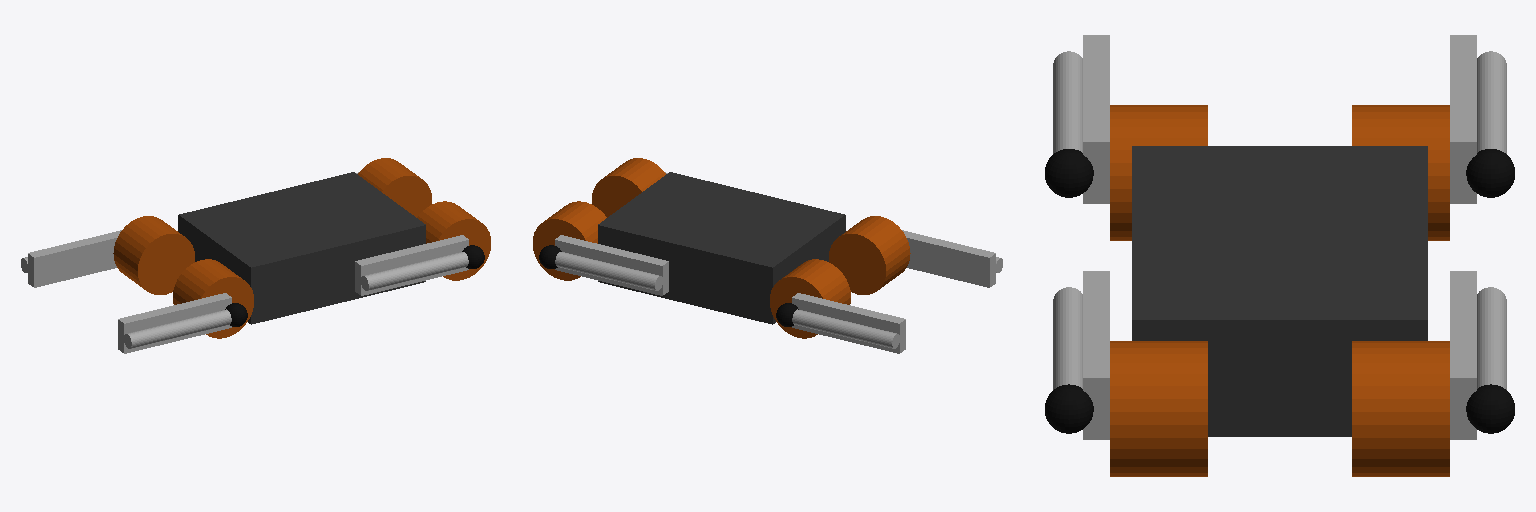
--- Render facts (derived) ---
3 views of the same robot in one strip: view 1: azimuth 30°, elevation 25°; view 2: azimuth 150°, elevation 25°; view 3: azimuth 270°, elevation 25° (orthographic).
Model spirit with 17 links and 16 joints (12 revolute, 4 fixed), rooted at body, posed all joints at 0.
Visible links, largest first — view 1: body, hip1, upper1, hip3, hip2, upper2, upper3, hip0, lower3, lower2; view 2: body, hip3, upper3, hip1, hip0, upper0, upper1, hip2, lower1, lower0; view 3: body, hip0, hip2, hip1, hip3, upper0, upper2, upper1, upper3, lower1, lower3, lower0 (+5 smaller).
Boxes of the visible links, <box> form: body: <box>178,172,425,324</box>; hip1: <box>113,216,194,294</box>; upper1: <box>28,230,121,287</box>; hip3: <box>173,259,253,338</box>; hip2: <box>417,201,490,280</box>; upper2: <box>355,235,468,295</box>; upper3: <box>118,293,231,353</box>; hip0: <box>358,158,431,217</box>; lower3: <box>124,309,231,348</box>; lower2: <box>361,252,468,290</box>; body: <box>598,172,845,324</box>; hip3: <box>829,216,910,294</box>; upper3: <box>902,230,995,287</box>; hip1: <box>770,259,850,338</box>; hip0: <box>533,201,606,280</box>; upper0: <box>555,235,668,295</box>; upper1: <box>792,293,905,353</box>; hip2: <box>592,158,665,217</box>; lower1: <box>792,309,899,348</box>; lower0: <box>555,252,662,290</box>; body: <box>1132,146,1427,436</box>; hip0: <box>1352,341,1449,476</box>; hip2: <box>1110,341,1207,476</box>; hip1: <box>1352,105,1449,240</box>; hip3: <box>1110,105,1207,240</box>; upper0: <box>1450,271,1476,439</box>; upper2: <box>1083,271,1109,439</box>; upper1: <box>1450,35,1476,203</box>; upper3: <box>1083,35,1109,203</box>; lower1: <box>1477,51,1506,153</box>; lower3: <box>1053,51,1082,153</box>; lower0: <box>1477,287,1506,389</box>.
Bounding box of the posed robot: 0.7136 × 0.382 × 0.11 m (x, y, z).
Geometry: primitives only (box / cylinder / sphere), no mesh files.

robot.urdf — spirit:
<?xml version="1.0" ?>
<!-- =================================================================================== -->
<!-- |    This document was autogenerated by xacro from spirit_drake.urdf.xacro        | -->
<!-- |    EDITING THIS FILE BY HAND IS NOT RECOMMENDED                                 | -->
<!-- =================================================================================== -->
<!--J. D. Caporale <[email redacted]>
Editted Gazebo URDF to be used drake and removed unnecessary components
12/22/2020-->
<!-- 
MIT License (modified)
Copyright (c) 2020 Ghost Robotics
Authors:
Avik De <[email redacted]>
Tom Jacobs <[email redacted]>
Permission is hereby granted, free of charge, to any person obtaining a copy
of this **file** (the "Software"), to deal
in the Software without restriction, including without limitation the rights
to use, copy, modify, merge, publish, distribute, sublicense, and/or sell
copies of the Software, and to permit persons to whom the Software is
furnished to do so, subject to the following conditions:
The above copyright notice and this permission notice shall be included in all
copies or substantial portions of the Software.
THE SOFTWARE IS PROVIDED "AS IS", WITHOUT WARRANTY OF ANY KIND, EXPRESS OR
IMPLIED, INCLUDING BUT NOT LIMITED TO THE WARRANTIES OF MERCHANTABILITY,
FITNESS FOR A PARTICULAR PURPOSE AND NONINFRINGEMENT. IN NO EVENT SHALL THE
AUTHORS OR COPYRIGHT HOLDERS BE LIABLE FOR ANY CLAIM, DAMAGES OR OTHER
LIABILITY, WHETHER IN AN ACTION OF CONTRACT, TORT OR OTHERWISE, ARISING FROM,
OUT OF OR IN CONNECTION WITH THE SOFTWARE OR THE USE OR OTHER DEALINGS IN THE
SOFTWARE. 
-->
<robot name="spirit" xmlns:xacro="http://www.ros.org/wiki/xacro">
  <!-- Define parameters -->
  <!-- bodyLength + hipdx should be equal to front to back hip distance -->
  <!-- dy +  dPodAxisToEdge + upperLegWidth should be equal to the center to toe distance along y axis-->
  <!-- guess -->
  <!-- guess -->
  <!-- guess -->
  <!-- guess -->
  <!-- guess -->
  <!-- guess -->
  <!--visual only-->
  <!--center of pod cylinder to the ab axis-->
  <material name="blue">
    <color rgba="0 0 0.8 1"/>
  </material>
  <material name="black">
    <color rgba="0.1 0.1 0.1 1"/>
  </material>
  <material name="darkgray">
    <color rgba="0.25 0.25 0.25 1"/>
  </material>
  <material name="copper">
    <color rgba="0.68 0.34 0.08 1"/>
  </material>
  <material name="silver">
    <color rgba="0.68 0.68 0.68 1"/>
  </material>
  <!-- 
	leg suffix="0" hipJointName="0" kneeJointName="1" abductionJointName="8"
 	leg suffix="1" hipJointName="2" kneeJointName="3" abductionJointName="9"
 	leg suffix="2" hipJointName="4" kneeJointName="5" abductionJointName="10"
 	leg suffix="3" hipJointName="6" kneeJointName="7" abductionJointName="11"
	-->
  <!-- Body -->
  <link name="body">
    <visual>
      <origin rpy="0 0 0" xyz="0 0 0"/>
      <geometry>
        <box size="0.335 0.24 0.104"/>
      </geometry>
      <material name="darkgray"/>
    </visual>
    <inertial>
      <mass value="5.75"/>
      <!-- Uniform box -->
      <!-- <inertia ixx="1/12*${bodyMass}*(${bodyWidth}*${bodyWidth} + ${bodyHeight}*${bodyHeight})"  ixy="0"  ixz="0" iyy="1/12*${bodyMass}*(${bodyLength}*${bodyLength} + ${bodyHeight}*${bodyHeight})" iyz="0" izz="1/12*${bodyMass}*(${bodyLength}*${bodyLength} + ${bodyWidth}*${bodyWidth})"/> -->
      <inertia ixx="0.05" ixy="0" ixz="0" iyy="0.1" iyz="0" izz="0.1"/>
    </inertial>
    <!-- Just copy geometry for collision -->
    <collision>
      <origin rpy="0 0 0" xyz="0 0 0"/>
      <geometry>
        <box size="0.335 0.24 0.104"/>
      </geometry>
    </collision>
  </link>
  <!-- Define our leg macro -->
  <!-- Our four legs -->
  <!-- Hip motor -->
  <link name="hip0">
    <visual>
      <origin rpy="1.570796326795 0 0" xyz="0.0 0.028 0"/>
      <geometry>
        <cylinder length="0.08" radius="0.055"/>
      </geometry>
      <material name="copper"/>
    </visual>
    <collision>
      <origin rpy="1.570796326795 0 0" xyz="0 0.028 0"/>
      <geometry>
        <cylinder length="0.08" radius="0.055"/>
      </geometry>
    </collision>
    <inertial>
      <mass value="0.575"/>
      <!-- <inertia ixx="1/12*${podMass}*${podLength}*${podLength} + 1/4*${podMass}*${podRadius}*${podRadius}"  ixy="0"  ixz="0" iyy="1/12*${podMass}*${podLength}*${podLength} + 1/4*${podMass}*${podRadius}*${podRadius}" iyz="0" izz="1/2*${podMass}*${podRadius}*$
				{podRadius}" /> -->
      <inertia ixx="0.00066963541" ixy="0" ixz="0" iyy="0.00066963541" iyz="0" izz="0.0008696875"/>
    </inertial>
  </link>
  <!-- Abduction joint. Joint names are: 8 9 10 11 -->
  <joint name="joint_8" type="revolute">
    <parent link="body"/>
    <child link="hip0"/>
    <axis xyz="1 0 0"/>
    <origin xyz="0.2263 0.07 0"/>
    <!-- <limit effort="${abEffortLimit}" velocity="${abSpeedLimit}" lower="${-abKinLimit}" upper="${abKinLimit}"/> -->
    <dynamics damping="0.0" friction="0.0"/>
  </joint>
  <!-- Transmission elements required for Gazebo -->
  <transmission name="transmission_8">
    <type>transmission_interface/SimpleTransmission</type>
    <joint name="joint_8">
      <!-- <hardwareInterface>hardware_interface/EffortJointInterface</hardwareInterface> -->
    </joint>
    <actuator name="motor_8">
      <!-- <hardwareInterface>EffortJointInterface</hardwareInterface> -->
      <mechanicalReduction>1</mechanicalReduction>
    </actuator>
  </transmission>
  <!-- Upper leg -->
  <link name="upper0">
    <visual>
      <origin rpy="0 0 0" xyz="-0.103 -0.022 0"/>
      <geometry>
        <box size="0.206 0.022 0.055"/>
      </geometry>
      <material name="silver"/>
    </visual>
    <collision>
      <origin rpy="0 0 0" xyz="-0.103 -0.022 0"/>
      <geometry>
        <box size="0.206 0.022 0.055"/>
      </geometry>
    </collision>
    <inertial>
      <mass value="0.775"/>
      <inertia ixx="5e-05" ixy="0" ixz="0" iyy="0.001" iyz="0" izz="0.001"/>
    </inertial>
  </link>
  <!-- Hip joint. (Motor to upper leg). Joint names are: 0 2 4 6 -->
  <joint name="joint_0" type="revolute">
    <parent link="hip0"/>
    <child link="upper0"/>
    <axis xyz="0 -1 0"/>
    <origin xyz="0.0 0.10098 0"/>
    <!--  rpy="0 -0.3 0" -->
    <!-- <limit effort="${jointEffortLimit}" velocity="${jointSpeedLimit}" lower="${hipJointLowerLimit}" upper="${hipJointUpperLimit}"/> -->
    <dynamics damping="0.0" friction="0.0"/>
  </joint>
  <!-- Transmission elements required for Gazebo -->
  <transmission name="transmission_0">
    <type>transmission_interface/SimpleTransmission</type>
    <joint name="joint_0">
      <!-- <hardwareInterface>hardware_interface/EffortJointInterface</hardwareInterface> -->
    </joint>
    <actuator name="motor_0">
      <!-- <hardwareInterface>EffortJointInterface</hardwareInterface> -->
      <mechanicalReduction>1</mechanicalReduction>
    </actuator>
  </transmission>
  <!-- Lower leg -->
  <link name="lower0">
    <visual>
      <origin rpy="0 1.570796326795 0" xyz="0.103 0 0"/>
      <geometry>
        <cylinder length="0.206" radius="0.013"/>
      </geometry>
      <material name="silver"/>
    </visual>
    <collision>
      <origin rpy="0 1.570796326795 0" xyz="0.103 0 0"/>
      <geometry>
        <cylinder length="0.206" radius="0.013"/>
      </geometry>
    </collision>
    <inertial>
      <mass value="0.075"/>
      <inertia ixx="5e-06" ixy="0" ixz="0" iyy="0.0001" iyz="0" izz="0.0001"/>
    </inertial>
  </link>
  <!-- Knee joint. Joint names are: 1 3 5 7 -->
  <joint name="joint_1" type="revolute">
    <parent link="upper0"/>
    <child link="lower0"/>
    <axis xyz="0 1 0"/>
    <origin xyz="-0.206 0 0"/>
    <!--rpy="0 0.5 0"-->
    <!-- <limit effort="${jointEffortLimit}" velocity="${jointSpeedLimit}" lower="0" upper="${pi}"/> -->
    <dynamics damping="0.0" friction="0.0"/>
  </joint>
  <!-- Transmission elements required for Gazebo -->
  <transmission name="transmission_1">
    <type>transmission_interface/SimpleTransmission</type>
    <joint name="joint_1">
      <!-- <hardwareInterface>hardware_interface/EffortJointInterface</hardwareInterface> -->
    </joint>
    <actuator name="motor_1">
      <!-- <hardwareInterface>EffortJointInterface</hardwareInterface> -->
      <mechanicalReduction>1.5</mechanicalReduction>
      <!-- Spirit knees have a 1.5 reduction from the original modules-->
    </actuator>
  </transmission>
  <!-- Toe -->
  <link name="toe0">
    <contact>
      <friction_anchor/>
      <stiffness value="300.0"/>
      <damping value="10.0"/>
      <spinning_friction value="0.3"/>
      <lateral_friction value="50.0"/>
    </contact>
    <visual>
      <origin rpy="0 0 0" xyz="0 0 0"/>
      <geometry>
        <sphere radius="0.02"/>
      </geometry>
      <material name="black"/>
    </visual>
    <collision>
      <origin rpy="0 0 0" xyz="0 0 0"/>
      <geometry>
        <sphere radius="0.02"/>
      </geometry>
    </collision>
    <inertial>
      <mass value="0.015"/>
      <inertia ixx="0.000025" ixy="0" ixz="0" iyy="0.000025" iyz="0" izz="0.000025"/>
      <!-- <inertia ixx="2/5*${toeMass}*${toeRadius}*${toeRadius}"  ixy="0"  ixz="0" iyy="2/5*${toeMass}*${toeRadius}*${toeRadius}" iyz="0" izz="2/5*${toeMass}*${toeRadius}*${toeRadius}" /> -->
    </inertial>
  </link>
  <joint name="jtoe0" type="fixed">
    <parent link="lower0"/>
    <child link="toe0"/>
    <origin xyz="0.206 0 -0.0"/>
    <dynamics damping="0.0" friction="0.0"/>
  </joint>
  <!-- Hip motor -->
  <link name="hip1">
    <visual>
      <origin rpy="1.570796326795 0 0" xyz="-0.0 0.028 0"/>
      <geometry>
        <cylinder length="0.08" radius="0.055"/>
      </geometry>
      <material name="copper"/>
    </visual>
    <collision>
      <origin rpy="1.570796326795 0 0" xyz="0 0.028 0"/>
      <geometry>
        <cylinder length="0.08" radius="0.055"/>
      </geometry>
    </collision>
    <inertial>
      <mass value="0.575"/>
      <!-- <inertia ixx="1/12*${podMass}*${podLength}*${podLength} + 1/4*${podMass}*${podRadius}*${podRadius}"  ixy="0"  ixz="0" iyy="1/12*${podMass}*${podLength}*${podLength} + 1/4*${podMass}*${podRadius}*${podRadius}" iyz="0" izz="1/2*${podMass}*${podRadius}*$
				{podRadius}" /> -->
      <inertia ixx="0.00066963541" ixy="0" ixz="0" iyy="0.00066963541" iyz="0" izz="0.0008696875"/>
    </inertial>
  </link>
  <!-- Abduction joint. Joint names are: 8 9 10 11 -->
  <joint name="joint_9" type="revolute">
    <parent link="body"/>
    <child link="hip1"/>
    <axis xyz="1 0 0"/>
    <origin xyz="-0.2263 0.07 0"/>
    <!-- <limit effort="${abEffortLimit}" velocity="${abSpeedLimit}" lower="${-abKinLimit}" upper="${abKinLimit}"/> -->
    <dynamics damping="0.0" friction="0.0"/>
  </joint>
  <!-- Transmission elements required for Gazebo -->
  <transmission name="transmission_9">
    <type>transmission_interface/SimpleTransmission</type>
    <joint name="joint_9">
      <!-- <hardwareInterface>hardware_interface/EffortJointInterface</hardwareInterface> -->
    </joint>
    <actuator name="motor_9">
      <!-- <hardwareInterface>EffortJointInterface</hardwareInterface> -->
      <mechanicalReduction>1</mechanicalReduction>
    </actuator>
  </transmission>
  <!-- Upper leg -->
  <link name="upper1">
    <visual>
      <origin rpy="0 0 0" xyz="-0.103 -0.022 0"/>
      <geometry>
        <box size="0.206 0.022 0.055"/>
      </geometry>
      <material name="silver"/>
    </visual>
    <collision>
      <origin rpy="0 0 0" xyz="-0.103 -0.022 0"/>
      <geometry>
        <box size="0.206 0.022 0.055"/>
      </geometry>
    </collision>
    <inertial>
      <mass value="0.775"/>
      <inertia ixx="5e-05" ixy="0" ixz="0" iyy="0.001" iyz="0" izz="0.001"/>
    </inertial>
  </link>
  <!-- Hip joint. (Motor to upper leg). Joint names are: 0 2 4 6 -->
  <joint name="joint_2" type="revolute">
    <parent link="hip1"/>
    <child link="upper1"/>
    <axis xyz="0 -1 0"/>
    <origin xyz="-0.0 0.10098 0"/>
    <!--  rpy="0 -0.3 0" -->
    <!-- <limit effort="${jointEffortLimit}" velocity="${jointSpeedLimit}" lower="${hipJointLowerLimit}" upper="${hipJointUpperLimit}"/> -->
    <dynamics damping="0.0" friction="0.0"/>
  </joint>
  <!-- Transmission elements required for Gazebo -->
  <transmission name="transmission_2">
    <type>transmission_interface/SimpleTransmission</type>
    <joint name="joint_2">
      <!-- <hardwareInterface>hardware_interface/EffortJointInterface</hardwareInterface> -->
    </joint>
    <actuator name="motor_2">
      <!-- <hardwareInterface>EffortJointInterface</hardwareInterface> -->
      <mechanicalReduction>1</mechanicalReduction>
    </actuator>
  </transmission>
  <!-- Lower leg -->
  <link name="lower1">
    <visual>
      <origin rpy="0 1.570796326795 0" xyz="0.103 0 0"/>
      <geometry>
        <cylinder length="0.206" radius="0.013"/>
      </geometry>
      <material name="silver"/>
    </visual>
    <collision>
      <origin rpy="0 1.570796326795 0" xyz="0.103 0 0"/>
      <geometry>
        <cylinder length="0.206" radius="0.013"/>
      </geometry>
    </collision>
    <inertial>
      <mass value="0.075"/>
      <inertia ixx="5e-06" ixy="0" ixz="0" iyy="0.0001" iyz="0" izz="0.0001"/>
    </inertial>
  </link>
  <!-- Knee joint. Joint names are: 1 3 5 7 -->
  <joint name="joint_3" type="revolute">
    <parent link="upper1"/>
    <child link="lower1"/>
    <axis xyz="0 1 0"/>
    <origin xyz="-0.206 0 0"/>
    <!--rpy="0 0.5 0"-->
    <!-- <limit effort="${jointEffortLimit}" velocity="${jointSpeedLimit}" lower="0" upper="${pi}"/> -->
    <dynamics damping="0.0" friction="0.0"/>
  </joint>
  <!-- Transmission elements required for Gazebo -->
  <transmission name="transmission_3">
    <type>transmission_interface/SimpleTransmission</type>
    <joint name="joint_3">
      <!-- <hardwareInterface>hardware_interface/EffortJointInterface</hardwareInterface> -->
    </joint>
    <actuator name="motor_3">
      <!-- <hardwareInterface>EffortJointInterface</hardwareInterface> -->
      <mechanicalReduction>1.5</mechanicalReduction>
      <!-- Spirit knees have a 1.5 reduction from the original modules-->
    </actuator>
  </transmission>
  <!-- Toe -->
  <link name="toe1">
    <contact>
      <friction_anchor/>
      <stiffness value="300.0"/>
      <damping value="10.0"/>
      <spinning_friction value="0.3"/>
      <lateral_friction value="50.0"/>
    </contact>
    <visual>
      <origin rpy="0 0 0" xyz="0 0 0"/>
      <geometry>
        <sphere radius="0.02"/>
      </geometry>
      <material name="black"/>
    </visual>
    <collision>
      <origin rpy="0 0 0" xyz="0 0 0"/>
      <geometry>
        <sphere radius="0.02"/>
      </geometry>
    </collision>
    <inertial>
      <mass value="0.015"/>
      <inertia ixx="0.000025" ixy="0" ixz="0" iyy="0.000025" iyz="0" izz="0.000025"/>
      <!-- <inertia ixx="2/5*${toeMass}*${toeRadius}*${toeRadius}"  ixy="0"  ixz="0" iyy="2/5*${toeMass}*${toeRadius}*${toeRadius}" iyz="0" izz="2/5*${toeMass}*${toeRadius}*${toeRadius}" /> -->
    </inertial>
  </link>
  <joint name="jtoe1" type="fixed">
    <parent link="lower1"/>
    <child link="toe1"/>
    <origin xyz="0.206 0 -0.0"/>
    <dynamics damping="0.0" friction="0.0"/>
  </joint>
  <!-- Hip motor -->
  <link name="hip2">
    <visual>
      <origin rpy="1.570796326795 0 0" xyz="0.0 -0.028 0"/>
      <geometry>
        <cylinder length="0.08" radius="0.055"/>
      </geometry>
      <material name="copper"/>
    </visual>
    <collision>
      <origin rpy="1.570796326795 0 0" xyz="0 -0.028 0"/>
      <geometry>
        <cylinder length="0.08" radius="0.055"/>
      </geometry>
    </collision>
    <inertial>
      <mass value="0.575"/>
      <!-- <inertia ixx="1/12*${podMass}*${podLength}*${podLength} + 1/4*${podMass}*${podRadius}*${podRadius}"  ixy="0"  ixz="0" iyy="1/12*${podMass}*${podLength}*${podLength} + 1/4*${podMass}*${podRadius}*${podRadius}" iyz="0" izz="1/2*${podMass}*${podRadius}*$
				{podRadius}" /> -->
      <inertia ixx="0.00066963541" ixy="0" ixz="0" iyy="0.00066963541" iyz="0" izz="0.0008696875"/>
    </inertial>
  </link>
  <!-- Abduction joint. Joint names are: 8 9 10 11 -->
  <joint name="joint_10" type="revolute">
    <parent link="body"/>
    <child link="hip2"/>
    <axis xyz="1 0 0"/>
    <origin xyz="0.2263 -0.07 0"/>
    <!-- <limit effort="${abEffortLimit}" velocity="${abSpeedLimit}" lower="${-abKinLimit}" upper="${abKinLimit}"/> -->
    <dynamics damping="0.0" friction="0.0"/>
  </joint>
  <!-- Transmission elements required for Gazebo -->
  <transmission name="transmission_10">
    <type>transmission_interface/SimpleTransmission</type>
    <joint name="joint_10">
      <!-- <hardwareInterface>hardware_interface/EffortJointInterface</hardwareInterface> -->
    </joint>
    <actuator name="motor_10">
      <!-- <hardwareInterface>EffortJointInterface</hardwareInterface> -->
      <mechanicalReduction>1</mechanicalReduction>
    </actuator>
  </transmission>
  <!-- Upper leg -->
  <link name="upper2">
    <visual>
      <origin rpy="0 0 0" xyz="-0.103 0.022 0"/>
      <geometry>
        <box size="0.206 0.022 0.055"/>
      </geometry>
      <material name="silver"/>
    </visual>
    <collision>
      <origin rpy="0 0 0" xyz="-0.103 0.022 0"/>
      <geometry>
        <box size="0.206 0.022 0.055"/>
      </geometry>
    </collision>
    <inertial>
      <mass value="0.775"/>
      <inertia ixx="5e-05" ixy="0" ixz="0" iyy="0.001" iyz="0" izz="0.001"/>
    </inertial>
  </link>
  <!-- Hip joint. (Motor to upper leg). Joint names are: 0 2 4 6 -->
  <joint name="joint_4" type="revolute">
    <parent link="hip2"/>
    <child link="upper2"/>
    <axis xyz="0 -1 0"/>
    <origin xyz="0.0 -0.10098 0"/>
    <!--  rpy="0 -0.3 0" -->
    <!-- <limit effort="${jointEffortLimit}" velocity="${jointSpeedLimit}" lower="${hipJointLowerLimit}" upper="${hipJointUpperLimit}"/> -->
    <dynamics damping="0.0" friction="0.0"/>
  </joint>
  <!-- Transmission elements required for Gazebo -->
  <transmission name="transmission_4">
    <type>transmission_interface/SimpleTransmission</type>
    <joint name="joint_4">
      <!-- <hardwareInterface>hardware_interface/EffortJointInterface</hardwareInterface> -->
    </joint>
    <actuator name="motor_4">
      <!-- <hardwareInterface>EffortJointInterface</hardwareInterface> -->
      <mechanicalReduction>1</mechanicalReduction>
    </actuator>
  </transmission>
  <!-- Lower leg -->
  <link name="lower2">
    <visual>
      <origin rpy="0 1.570796326795 0" xyz="0.103 0 0"/>
      <geometry>
        <cylinder length="0.206" radius="0.013"/>
      </geometry>
      <material name="silver"/>
    </visual>
    <collision>
      <origin rpy="0 1.570796326795 0" xyz="0.103 0 0"/>
      <geometry>
        <cylinder length="0.206" radius="0.013"/>
      </geometry>
    </collision>
    <inertial>
      <mass value="0.075"/>
      <inertia ixx="5e-06" ixy="0" ixz="0" iyy="0.0001" iyz="0" izz="0.0001"/>
    </inertial>
  </link>
  <!-- Knee joint. Joint names are: 1 3 5 7 -->
  <joint name="joint_5" type="revolute">
    <parent link="upper2"/>
    <child link="lower2"/>
    <axis xyz="0 1 0"/>
    <origin xyz="-0.206 0 0"/>
    <!--rpy="0 0.5 0"-->
    <!-- <limit effort="${jointEffortLimit}" velocity="${jointSpeedLimit}" lower="0" upper="${pi}"/> -->
    <dynamics damping="0.0" friction="0.0"/>
  </joint>
  <!-- Transmission elements required for Gazebo -->
  <transmission name="transmission_5">
    <type>transmission_interface/SimpleTransmission</type>
    <joint name="joint_5">
      <!-- <hardwareInterface>hardware_interface/EffortJointInterface</hardwareInterface> -->
    </joint>
    <actuator name="motor_5">
      <!-- <hardwareInterface>EffortJointInterface</hardwareInterface> -->
      <mechanicalReduction>1.5</mechanicalReduction>
      <!-- Spirit knees have a 1.5 reduction from the original modules-->
    </actuator>
  </transmission>
  <!-- Toe -->
  <link name="toe2">
    <contact>
      <friction_anchor/>
      <stiffness value="300.0"/>
      <damping value="10.0"/>
      <spinning_friction value="0.3"/>
      <lateral_friction value="50.0"/>
    </contact>
    <visual>
      <origin rpy="0 0 0" xyz="0 0 0"/>
      <geometry>
        <sphere radius="0.02"/>
      </geometry>
      <material name="black"/>
    </visual>
    <collision>
      <origin rpy="0 0 0" xyz="0 0 0"/>
      <geometry>
        <sphere radius="0.02"/>
      </geometry>
    </collision>
    <inertial>
      <mass value="0.015"/>
      <inertia ixx="0.000025" ixy="0" ixz="0" iyy="0.000025" iyz="0" izz="0.000025"/>
      <!-- <inertia ixx="2/5*${toeMass}*${toeRadius}*${toeRadius}"  ixy="0"  ixz="0" iyy="2/5*${toeMass}*${toeRadius}*${toeRadius}" iyz="0" izz="2/5*${toeMass}*${toeRadius}*${toeRadius}" /> -->
    </inertial>
  </link>
  <joint name="jtoe2" type="fixed">
    <parent link="lower2"/>
    <child link="toe2"/>
    <origin xyz="0.206 0 -0.0"/>
    <dynamics damping="0.0" friction="0.0"/>
  </joint>
  <!-- Hip motor -->
  <link name="hip3">
    <visual>
      <origin rpy="1.570796326795 0 0" xyz="-0.0 -0.028 0"/>
      <geometry>
        <cylinder length="0.08" radius="0.055"/>
      </geometry>
      <material name="copper"/>
    </visual>
    <collision>
      <origin rpy="1.570796326795 0 0" xyz="0 -0.028 0"/>
      <geometry>
        <cylinder length="0.08" radius="0.055"/>
      </geometry>
    </collision>
    <inertial>
      <mass value="0.575"/>
      <!-- <inertia ixx="1/12*${podMass}*${podLength}*${podLength} + 1/4*${podMass}*${podRadius}*${podRadius}"  ixy="0"  ixz="0" iyy="1/12*${podMass}*${podLength}*${podLength} + 1/4*${podMass}*${podRadius}*${podRadius}" iyz="0" izz="1/2*${podMass}*${podRadius}*$
				{podRadius}" /> -->
      <inertia ixx="0.00066963541" ixy="0" ixz="0" iyy="0.00066963541" iyz="0" izz="0.0008696875"/>
    </inertial>
  </link>
  <!-- Abduction joint. Joint names are: 8 9 10 11 -->
  <joint name="joint_11" type="revolute">
    <parent link="body"/>
    <child link="hip3"/>
    <axis xyz="1 0 0"/>
    <origin xyz="-0.2263 -0.07 0"/>
    <!-- <limit effort="${abEffortLimit}" velocity="${abSpeedLimit}" lower="${-abKinLimit}" upper="${abKinLimit}"/> -->
    <dynamics damping="0.0" friction="0.0"/>
  </joint>
  <!-- Transmission elements required for Gazebo -->
  <transmission name="transmission_11">
    <type>transmission_interface/SimpleTransmission</type>
    <joint name="joint_11">
      <!-- <hardwareInterface>hardware_interface/EffortJointInterface</hardwareInterface> -->
    </joint>
    <actuator name="motor_11">
      <!-- <hardwareInterface>EffortJointInterface</hardwareInterface> -->
      <mechanicalReduction>1</mechanicalReduction>
    </actuator>
  </transmission>
  <!-- Upper leg -->
  <link name="upper3">
    <visual>
      <origin rpy="0 0 0" xyz="-0.103 0.022 0"/>
      <geometry>
        <box size="0.206 0.022 0.055"/>
      </geometry>
      <material name="silver"/>
    </visual>
    <collision>
      <origin rpy="0 0 0" xyz="-0.103 0.022 0"/>
      <geometry>
        <box size="0.206 0.022 0.055"/>
      </geometry>
    </collision>
    <inertial>
      <mass value="0.775"/>
      <inertia ixx="5e-05" ixy="0" ixz="0" iyy="0.001" iyz="0" izz="0.001"/>
    </inertial>
  </link>
  <!-- Hip joint. (Motor to upper leg). Joint names are: 0 2 4 6 -->
  <joint name="joint_6" type="revolute">
    <parent link="hip3"/>
    <child link="upper3"/>
    <axis xyz="0 -1 0"/>
    <origin xyz="-0.0 -0.10098 0"/>
    <!--  rpy="0 -0.3 0" -->
    <!-- <limit effort="${jointEffortLimit}" velocity="${jointSpeedLimit}" lower="${hipJointLowerLimit}" upper="${hipJointUpperLimit}"/> -->
    <dynamics damping="0.0" friction="0.0"/>
  </joint>
  <!-- Transmission elements required for Gazebo -->
  <transmission name="transmission_6">
    <type>transmission_interface/SimpleTransmission</type>
    <joint name="joint_6">
      <!-- <hardwareInterface>hardware_interface/EffortJointInterface</hardwareInterface> -->
    </joint>
    <actuator name="motor_6">
      <!-- <hardwareInterface>EffortJointInterface</hardwareInterface> -->
      <mechanicalReduction>1</mechanicalReduction>
    </actuator>
  </transmission>
  <!-- Lower leg -->
  <link name="lower3">
    <visual>
      <origin rpy="0 1.570796326795 0" xyz="0.103 0 0"/>
      <geometry>
        <cylinder length="0.206" radius="0.013"/>
      </geometry>
      <material name="silver"/>
    </visual>
    <collision>
      <origin rpy="0 1.570796326795 0" xyz="0.103 0 0"/>
      <geometry>
        <cylinder length="0.206" radius="0.013"/>
      </geometry>
    </collision>
    <inertial>
      <mass value="0.075"/>
      <inertia ixx="5e-06" ixy="0" ixz="0" iyy="0.0001" iyz="0" izz="0.0001"/>
    </inertial>
  </link>
  <!-- Knee joint. Joint names are: 1 3 5 7 -->
  <joint name="joint_7" type="revolute">
    <parent link="upper3"/>
    <child link="lower3"/>
    <axis xyz="0 1 0"/>
    <origin xyz="-0.206 0 0"/>
    <!--rpy="0 0.5 0"-->
    <!-- <limit effort="${jointEffortLimit}" velocity="${jointSpeedLimit}" lower="0" upper="${pi}"/> -->
    <dynamics damping="0.0" friction="0.0"/>
  </joint>
  <!-- Transmission elements required for Gazebo -->
  <transmission name="transmission_7">
    <type>transmission_interface/SimpleTransmission</type>
    <joint name="joint_7">
      <!-- <hardwareInterface>hardware_interface/EffortJointInterface</hardwareInterface> -->
    </joint>
    <actuator name="motor_7">
      <!-- <hardwareInterface>EffortJointInterface</hardwareInterface> -->
      <mechanicalReduction>1.5</mechanicalReduction>
      <!-- Spirit knees have a 1.5 reduction from the original modules-->
    </actuator>
  </transmission>
  <!-- Toe -->
  <link name="toe3">
    <contact>
      <friction_anchor/>
      <stiffness value="300.0"/>
      <damping value="10.0"/>
      <spinning_friction value="0.3"/>
      <lateral_friction value="50.0"/>
    </contact>
    <visual>
      <origin rpy="0 0 0" xyz="0 0 0"/>
      <geometry>
        <sphere radius="0.02"/>
      </geometry>
      <material name="black"/>
    </visual>
    <collision>
      <origin rpy="0 0 0" xyz="0 0 0"/>
      <geometry>
        <sphere radius="0.02"/>
      </geometry>
    </collision>
    <inertial>
      <mass value="0.015"/>
      <inertia ixx="0.000025" ixy="0" ixz="0" iyy="0.000025" iyz="0" izz="0.000025"/>
      <!-- <inertia ixx="2/5*${toeMass}*${toeRadius}*${toeRadius}"  ixy="0"  ixz="0" iyy="2/5*${toeMass}*${toeRadius}*${toeRadius}" iyz="0" izz="2/5*${toeMass}*${toeRadius}*${toeRadius}" /> -->
    </inertial>
  </link>
  <joint name="jtoe3" type="fixed">
    <parent link="lower3"/>
    <child link="toe3"/>
    <origin xyz="0.206 0 -0.0"/>
    <dynamics damping="0.0" friction="0.0"/>
  </joint>
</robot>
